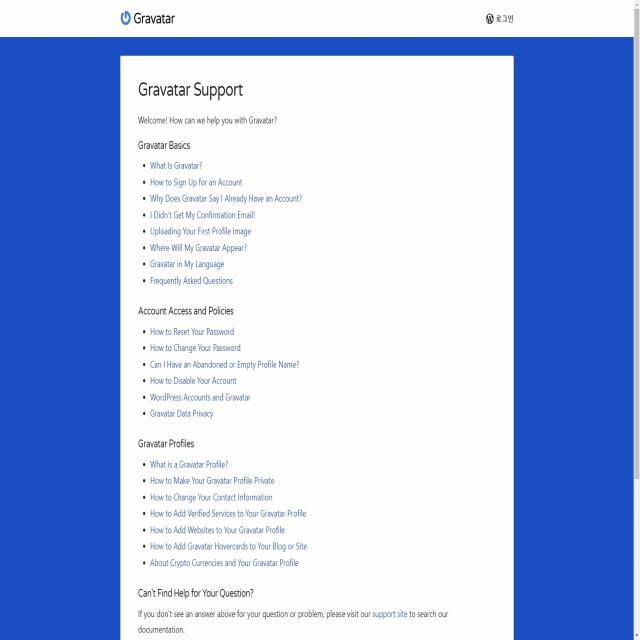menu-bar: (481, 6, 516, 28)
